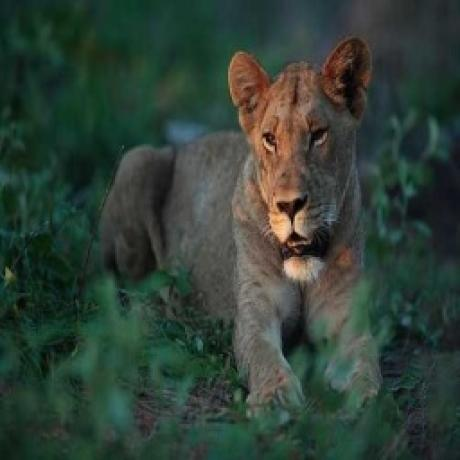Lion: (97, 32, 392, 429)
